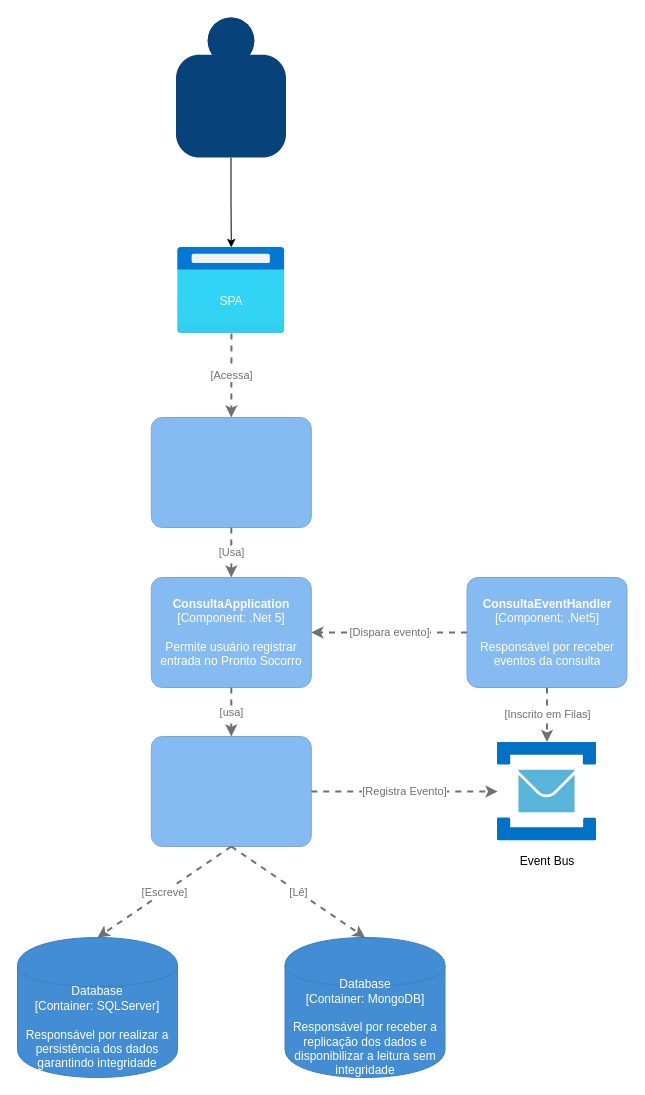
Some shapes in this 645 by 1095 pixel diagram are drawn without their labels. The shapes that lost their labels are listed below. From the top down, each one's centre as x and y in pixels, then its label:
At point (231, 87): "[Enfermeiro] [Médico] [Recepcionista] [Paciente] [Person] Usuário".
At point (230, 472): "ConsultaController [Component: .Net5] Permite o atendimento da consulta criada".
At point (230, 791): "Infraestrutura [Component: .Net 5] Responsável por realizar acessos IO".
